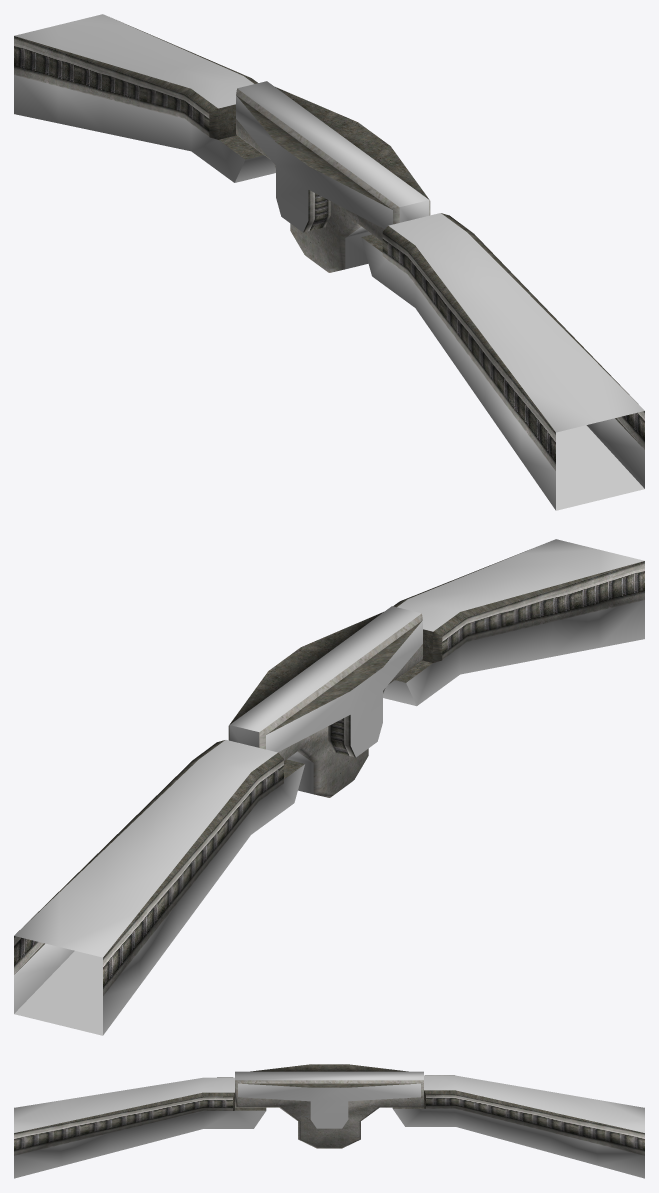
Rendered from DWARF_PALACE_MAINHALL_COLUMN_DEBREE04.obj.
3 views of the same model, one above another, from view 1: azimuth 30°, elevation 25°; view 2: azimuth 150°, elevation 25°; view 3: azimuth 270°, elevation 25° (orthographic). The views are drawn at different scales.
Visible parts, largest first — view 1: column_debree04; view 2: column_debree04; view 3: column_debree04.
Part boxes in pixels (<box>): column_debree04: <box>14,14,644,510</box>; column_debree04: <box>14,539,644,1035</box>; column_debree04: <box>14,1064,644,1178</box>.
Size of the model in its own units: 239 by 400 by 2511.
